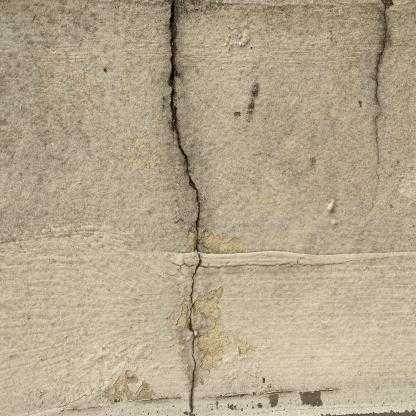crack: (167, 0, 202, 412)
